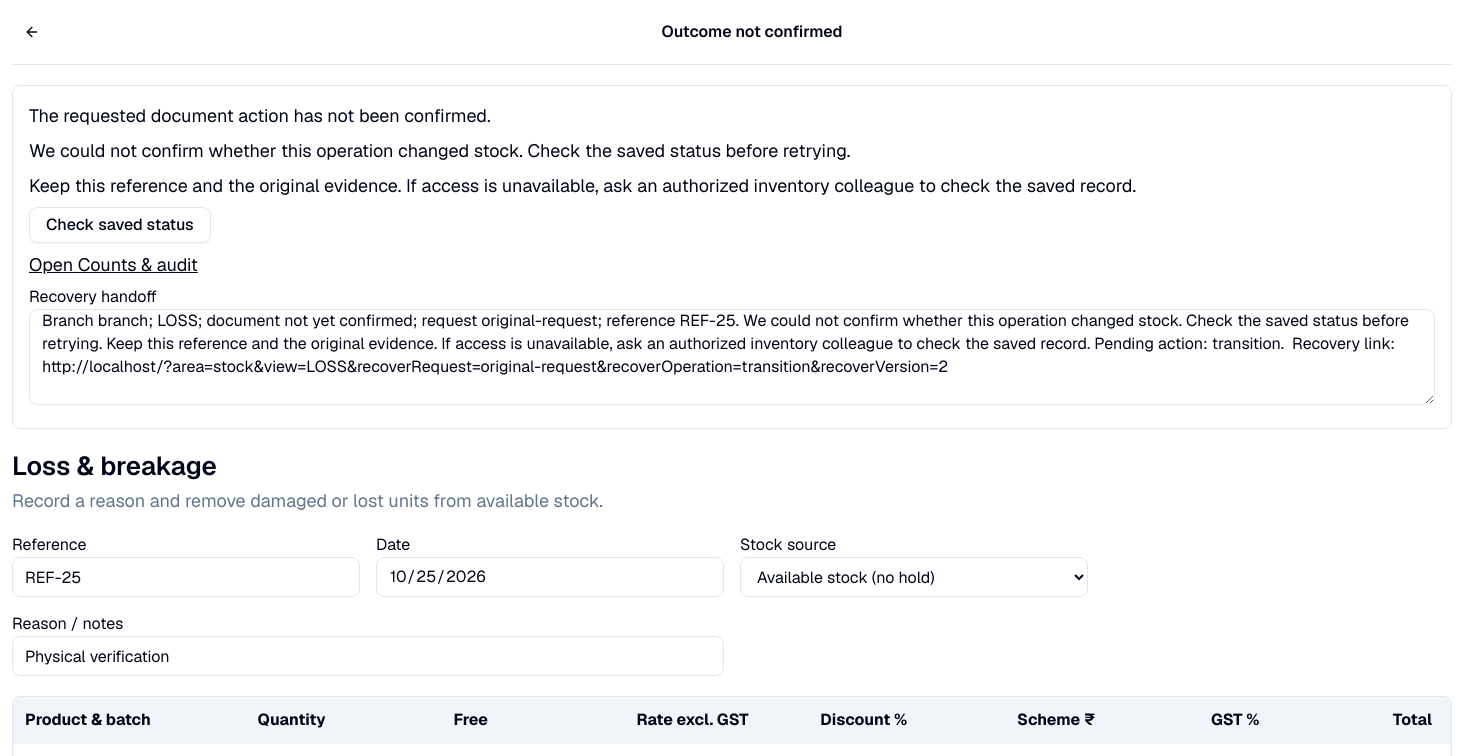
it: recovers a legacy saved draft by its original request key without asserting no stock change
Click the button "Check saved status": (120, 225) [29,207,211,243]
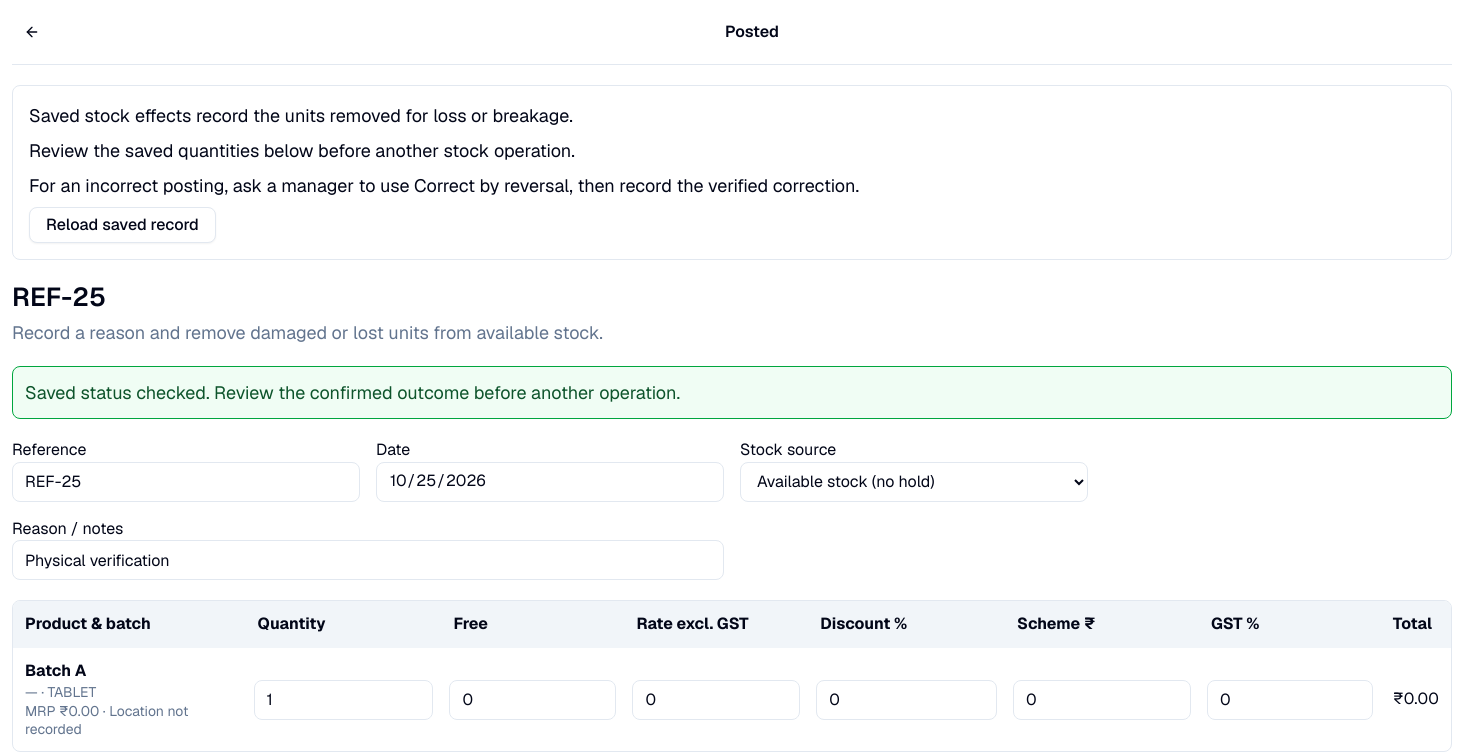
Result: the text "Saved stock effects" is shown at [29,104,573,127]
